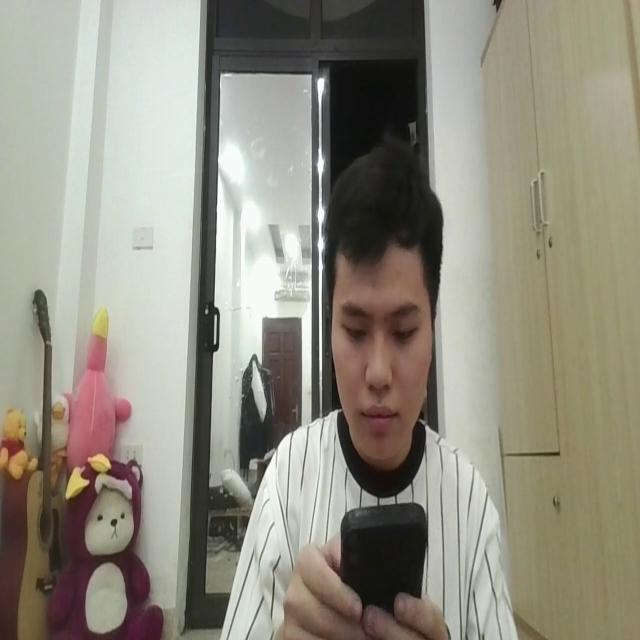phone: (337, 490, 434, 629)
student: (213, 134, 516, 640)
